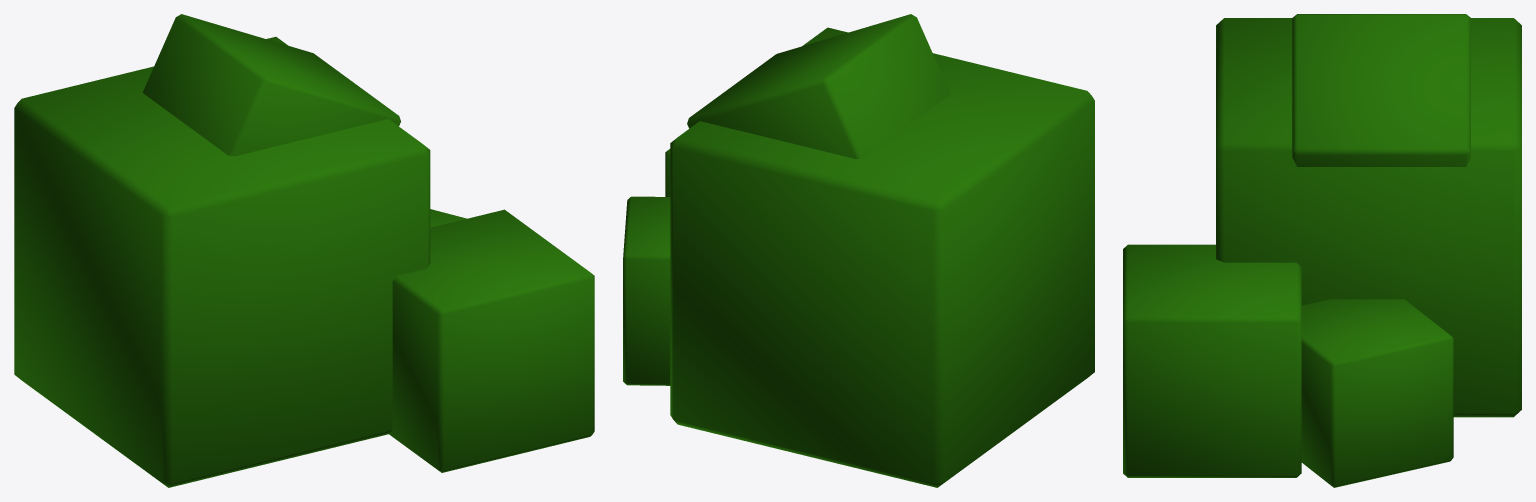
The model's file is bush-16_col.fbx.
The picture shows the model from 3 angles, left to right: view 1: azimuth 30°, elevation 25°; view 2: azimuth 150°, elevation 25°; view 3: azimuth 270°, elevation 25°; orthographic projection. The views are drawn at different scales.
Parts seen in each view (by area): view 1: bush-16.col; view 2: bush-16.col; view 3: bush-16.col.
Boxes of the visible parts, <box> form: bush-16.col: <box>14,14,594,487</box>; bush-16.col: <box>623,14,1094,487</box>; bush-16.col: <box>1123,14,1521,487</box>.
Size of the model in its own units: 0.2823 by 0.2391 by 0.2467.
Materials: 1 (1 with a texture image).
